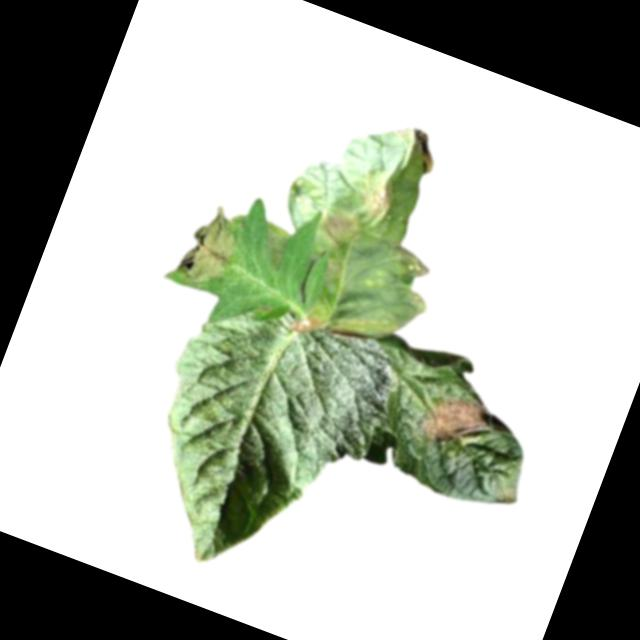Late_blight: (166, 196, 248, 297), (412, 379, 500, 460), (325, 303, 393, 354), (247, 218, 298, 276), (309, 206, 367, 256), (350, 171, 400, 225), (378, 242, 435, 285), (397, 126, 443, 179), (284, 305, 324, 339)
healthy: (109, 277, 407, 606)
